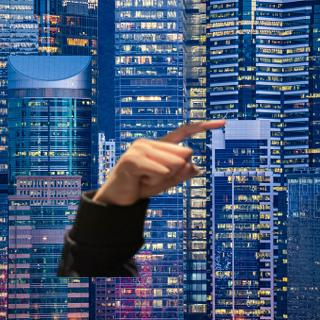WHY: (92, 112, 230, 205)
